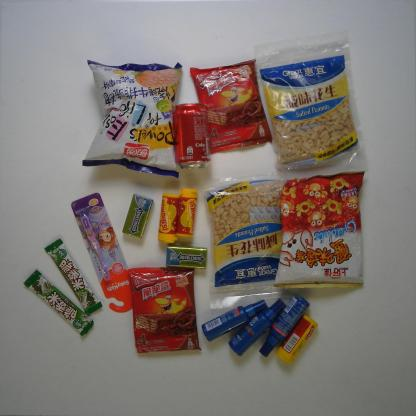Candy: (275, 312, 324, 367), (174, 184, 200, 242), (157, 190, 183, 245)
Chocolate: (21, 267, 96, 337), (42, 237, 104, 318)
Dessert: (188, 57, 275, 154), (125, 265, 205, 355)
Dried Fruit: (250, 28, 371, 177), (198, 172, 303, 308)
Drink: (174, 96, 211, 171)
Gum: (121, 192, 155, 241), (162, 240, 210, 272)
Personal Hygiene: (69, 190, 139, 314), (225, 297, 289, 359), (258, 294, 312, 364), (198, 297, 270, 344)
Puffed Food: (79, 57, 189, 180), (272, 169, 367, 289)
